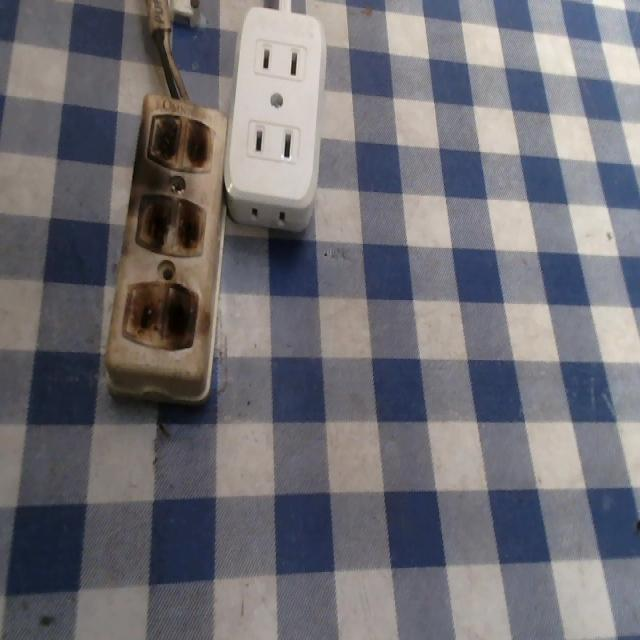-: (120, 284, 207, 371), (137, 108, 213, 184), (133, 192, 210, 264)
